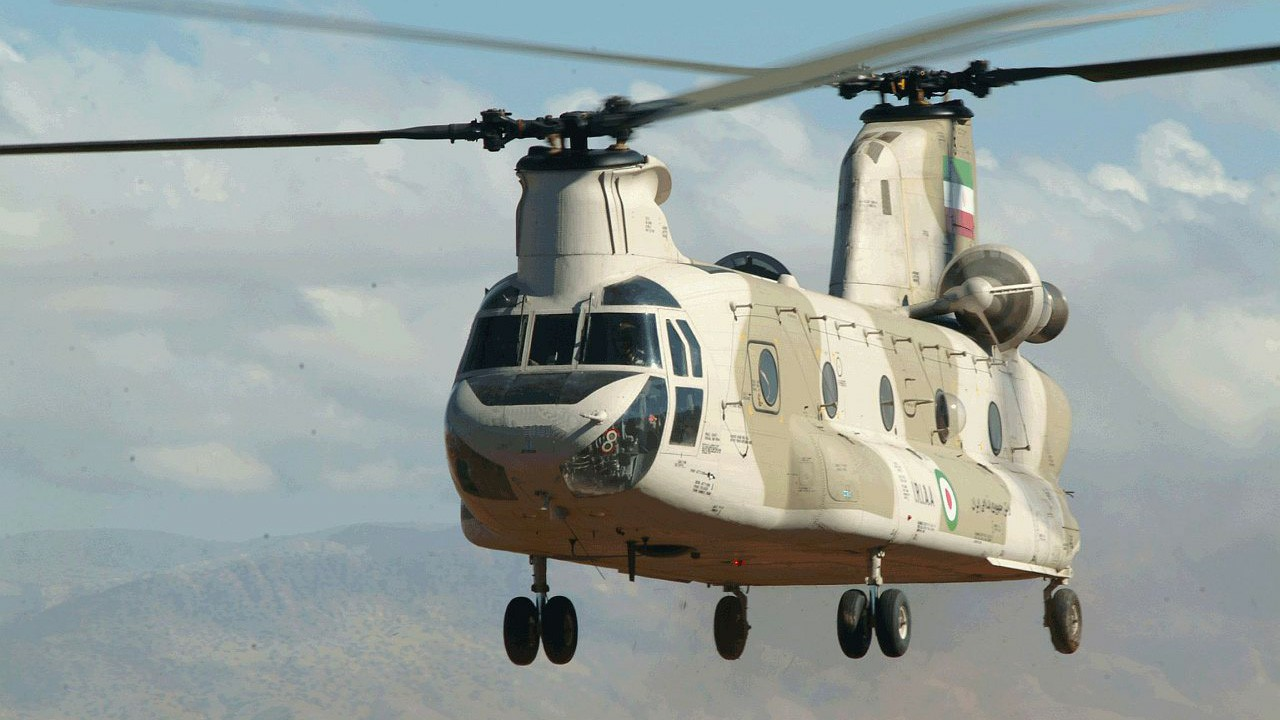chinook: (324, 20, 1181, 693)
iran: (938, 157, 982, 237)
